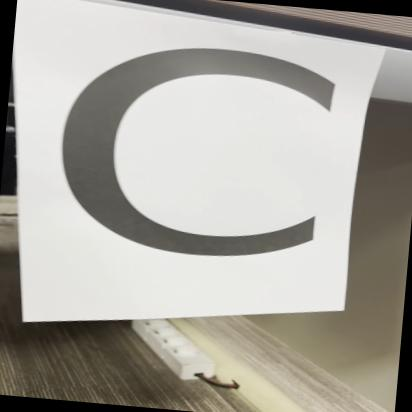seat: (2, 0, 377, 322)
